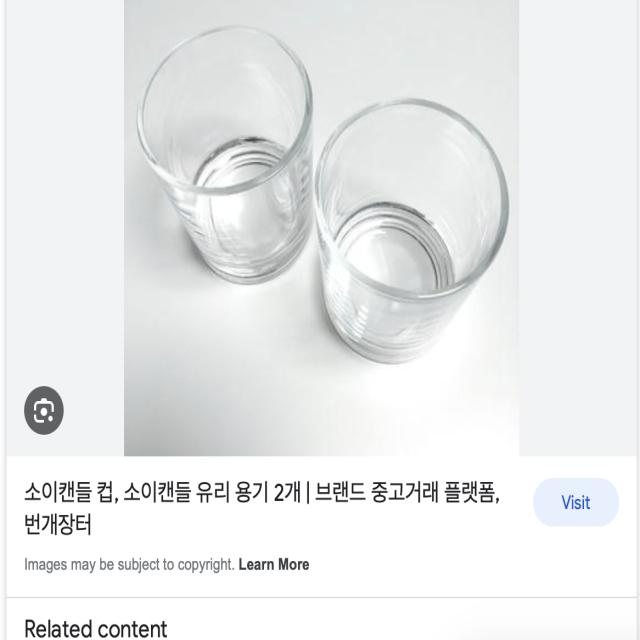recyclable: (307, 80, 514, 370), (121, 12, 334, 288)
